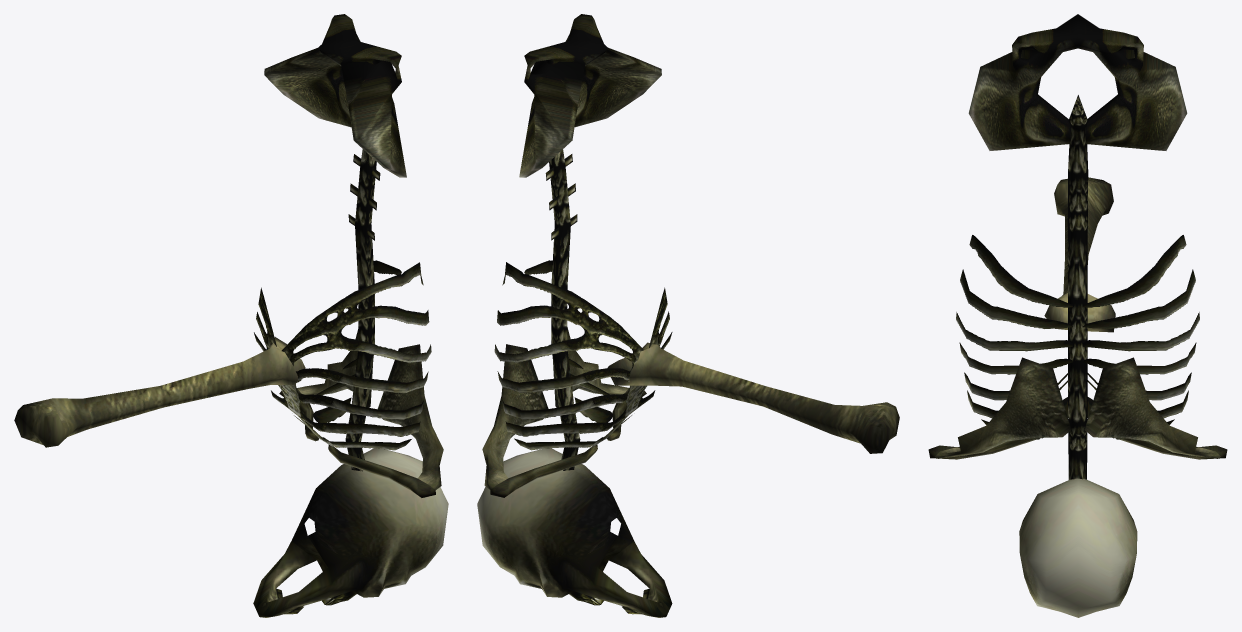
3 views of the same model, side by side, from view 1: azimuth 30°, elevation 25°; view 2: azimuth 150°, elevation 25°; view 3: azimuth 270°, elevation 25° (orthographic). The views are drawn at different scales.
Parts seen in each view (by area): view 1: it10409; view 2: it10409; view 3: it10409.
Part boxes in pixels (x1,y1,x2,y2): it10409: (14,14,448,617); it10409: (477,14,899,617); it10409: (928,14,1227,617).
Size of the model in its own units: 2.24 by 2.92 by 1.36.
5 materials, 5 textured.
